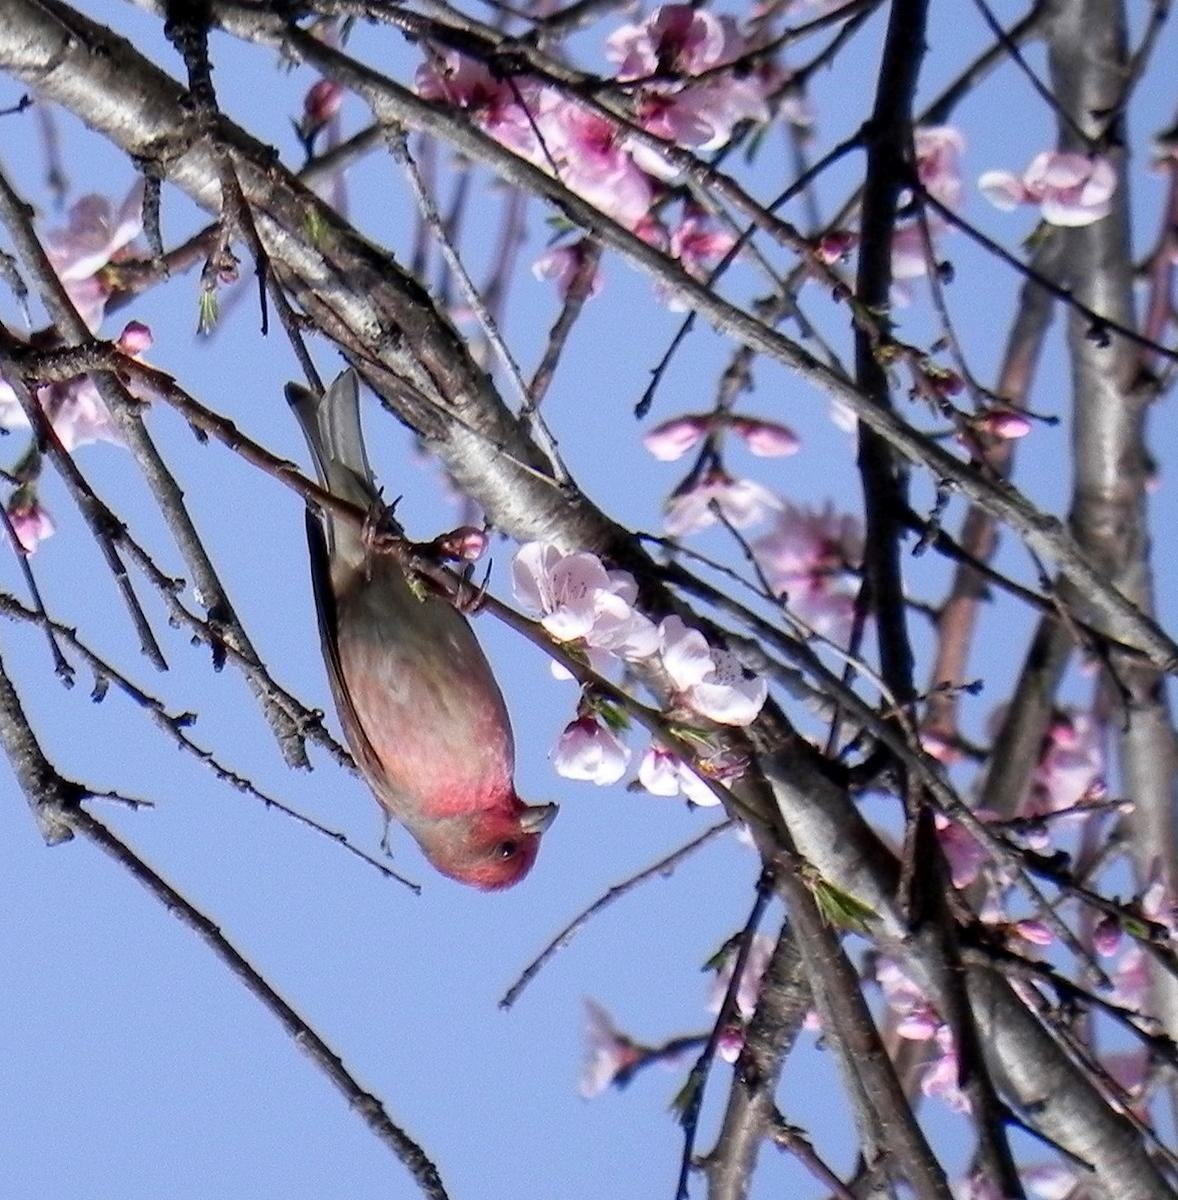rosefinch: (289, 434, 593, 921)
